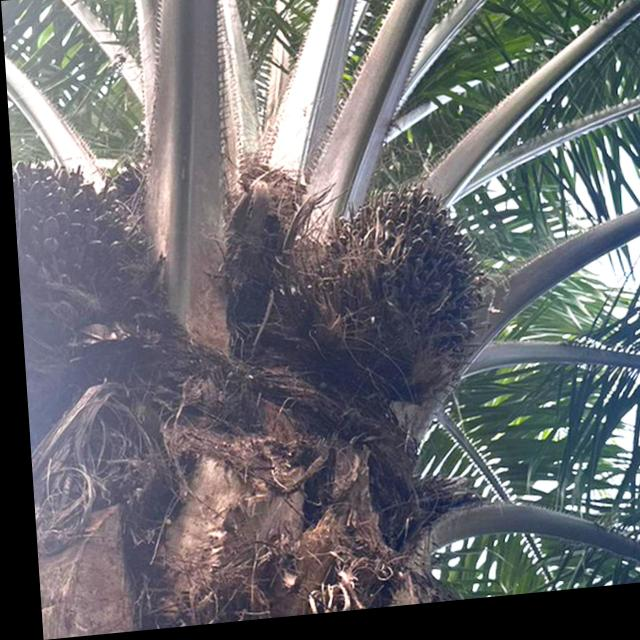unripe: (295, 176, 496, 401)
